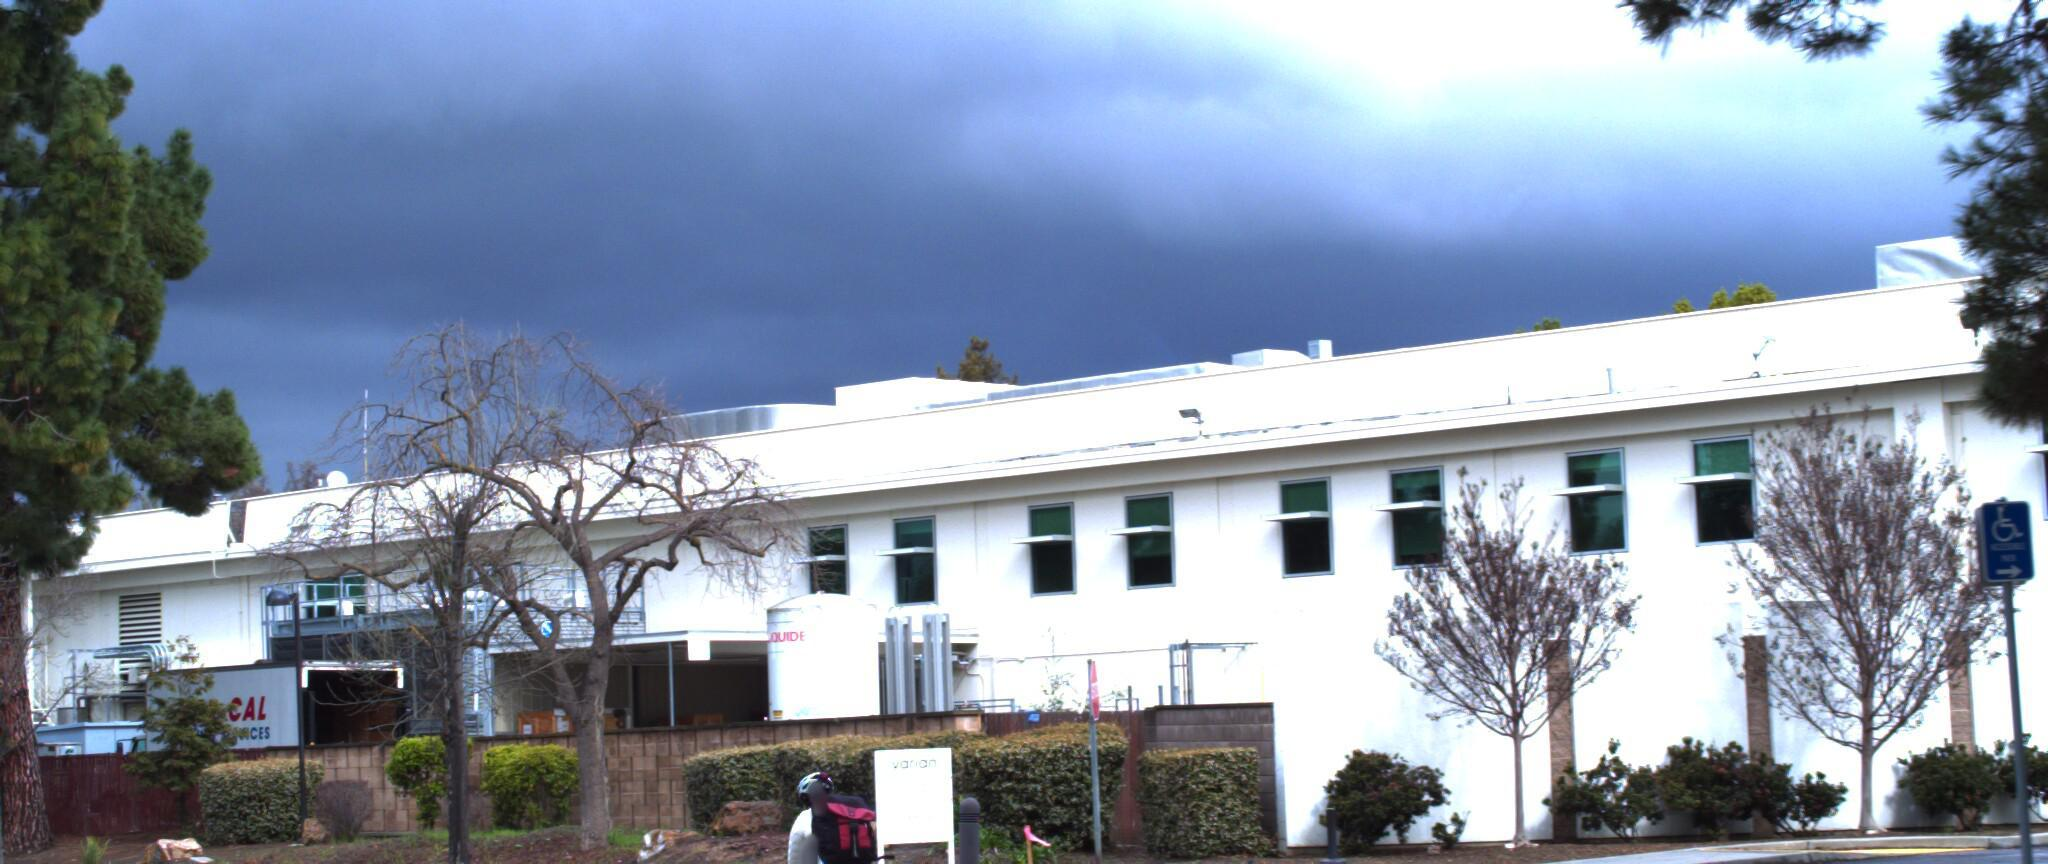bicycle: (724, 764, 921, 864)
truck: (101, 647, 431, 824)
